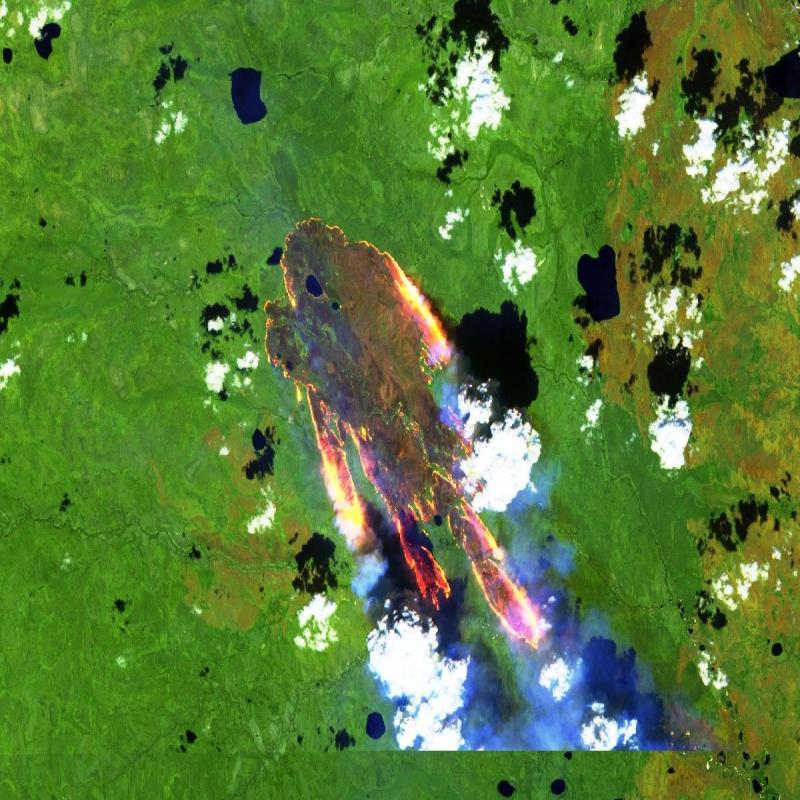fire: (252, 208, 551, 664)
